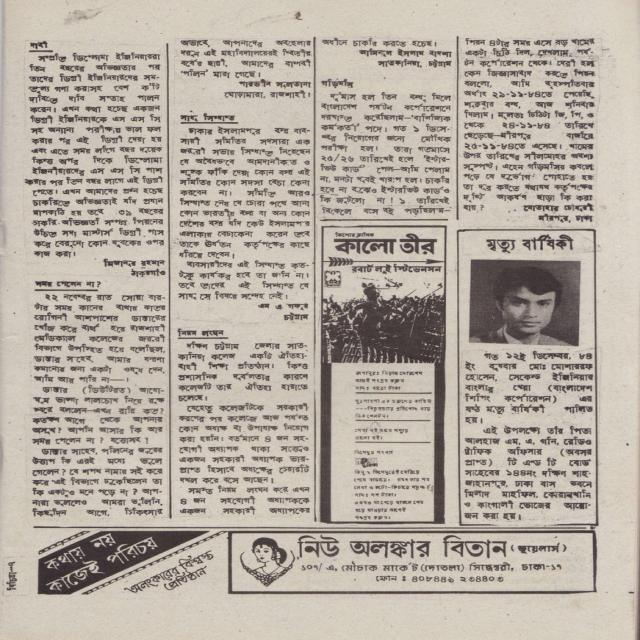advertisement: (458, 230, 596, 526), (321, 225, 445, 524), (38, 530, 595, 595)
page number: (8, 562, 15, 571)
paragraph: (25, 50, 166, 258), (460, 39, 596, 212), (175, 124, 313, 261), (316, 92, 455, 219), (173, 402, 313, 516), (32, 293, 168, 385), (31, 448, 166, 518), (175, 338, 311, 402), (33, 384, 165, 446), (178, 260, 311, 302), (178, 39, 313, 79), (321, 39, 437, 48)
text: (360, 48, 451, 59), (521, 202, 596, 213), (224, 90, 313, 99), (538, 212, 595, 225), (239, 80, 311, 90), (377, 60, 451, 69), (104, 259, 165, 269), (259, 302, 308, 309), (130, 269, 166, 278), (5, 570, 18, 591), (284, 314, 308, 320)
title: (33, 279, 102, 294), (180, 112, 237, 124), (178, 329, 227, 339), (322, 79, 354, 89), (30, 41, 48, 51)
